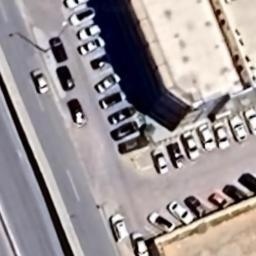SUV: (96, 90, 129, 111)
sedan: (144, 208, 176, 236), (26, 68, 52, 98), (106, 212, 130, 244), (210, 120, 233, 152), (166, 200, 194, 226), (178, 130, 200, 162), (194, 120, 215, 152), (106, 106, 139, 126), (109, 118, 139, 140), (93, 72, 121, 94), (128, 228, 150, 256), (74, 38, 108, 56), (228, 114, 248, 144), (184, 194, 206, 220), (167, 140, 186, 170), (150, 148, 170, 176), (76, 22, 102, 42), (208, 188, 228, 210), (242, 106, 256, 136), (64, 0, 88, 10)
unknown: (64, 98, 92, 130), (44, 36, 70, 64), (54, 66, 80, 92), (222, 180, 248, 204), (116, 136, 150, 154), (234, 170, 256, 196)
van: (66, 10, 98, 26)
